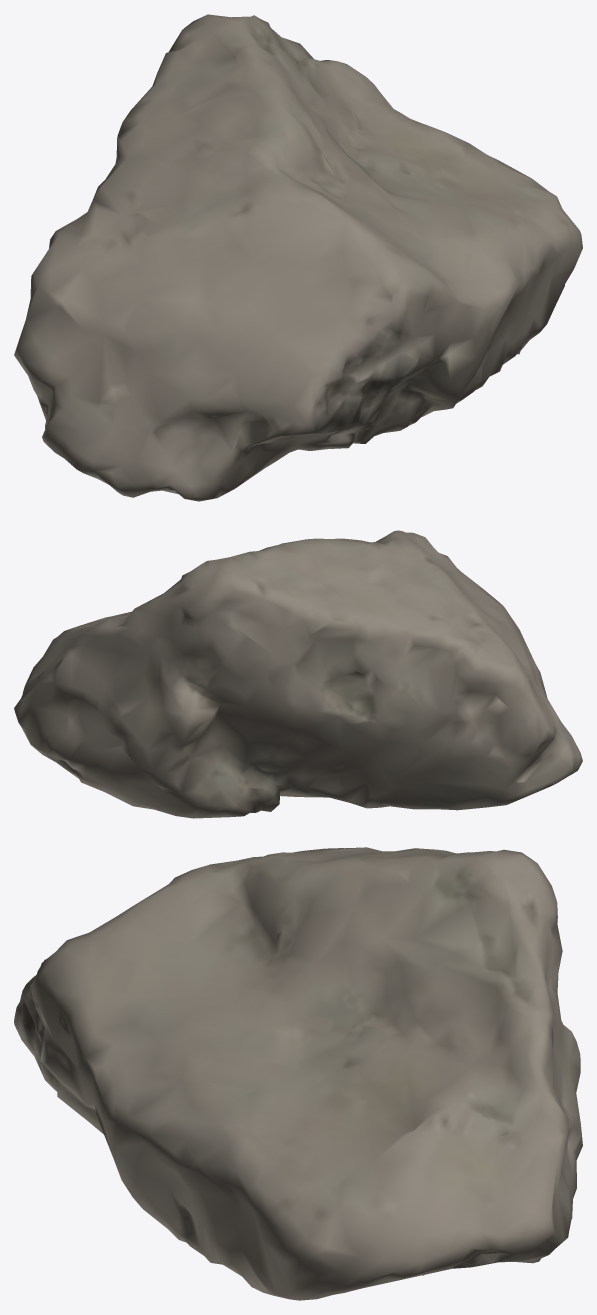
The model's file is moon_rock_03.glb.
3 views of the same model, one above another, from view 1: azimuth 30°, elevation 25°; view 2: azimuth 150°, elevation 25°; view 3: azimuth 270°, elevation 25° (orthographic). The views are drawn at different scales.
Parts seen in each view (by area): view 1: moon_rock_03_LOD0; view 2: moon_rock_03_LOD0; view 3: moon_rock_03_LOD0.
Boxes of the visible parts, x1,y1,x2,y2 form: moon_rock_03_LOD0: (14, 14, 582, 501); moon_rock_03_LOD0: (14, 530, 582, 818); moon_rock_03_LOD0: (14, 847, 582, 1300).
Bounding box in the file's own units: 0.112 × 0.0582 × 0.0861.
Materials: 1 (1 with a texture image).
